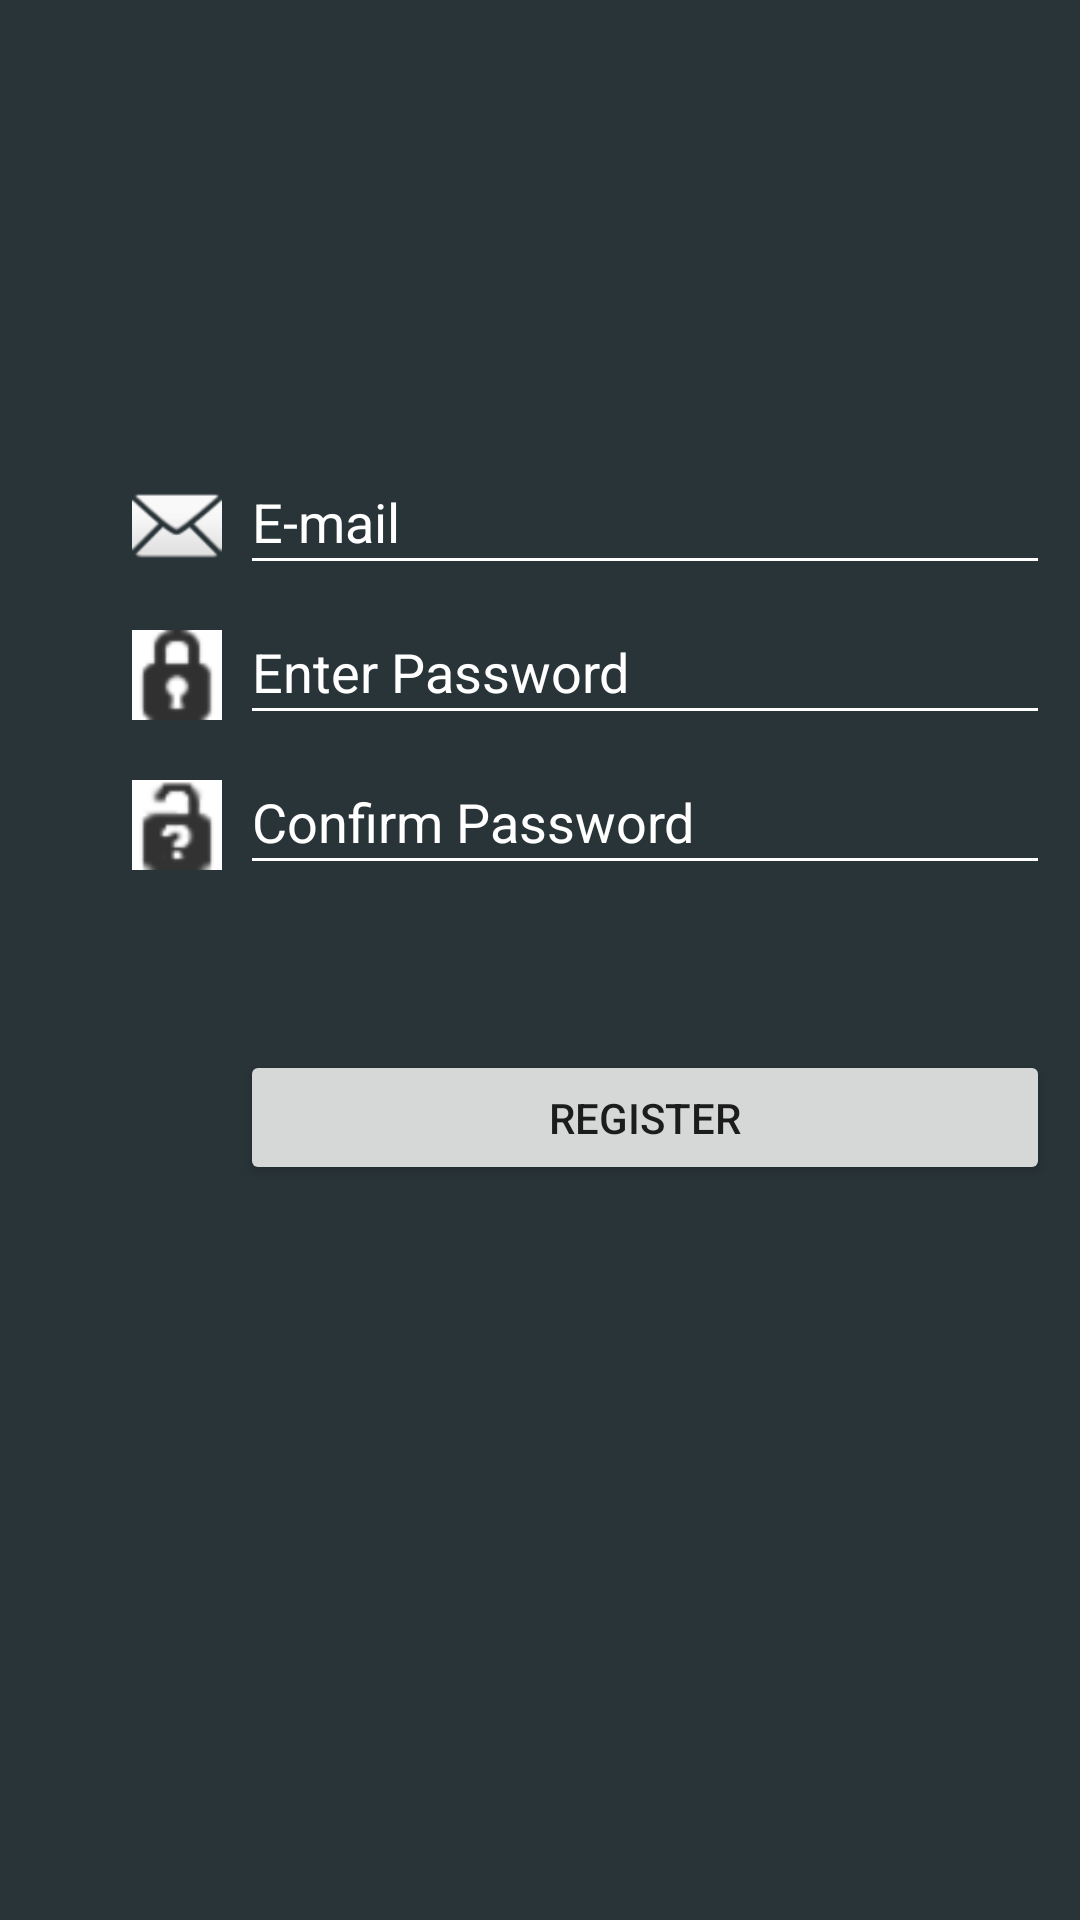

Named icons in this screenshot (1080x1920) and their centers, [x,y]:
partial secure: [177,825]
secure: [177,675]
